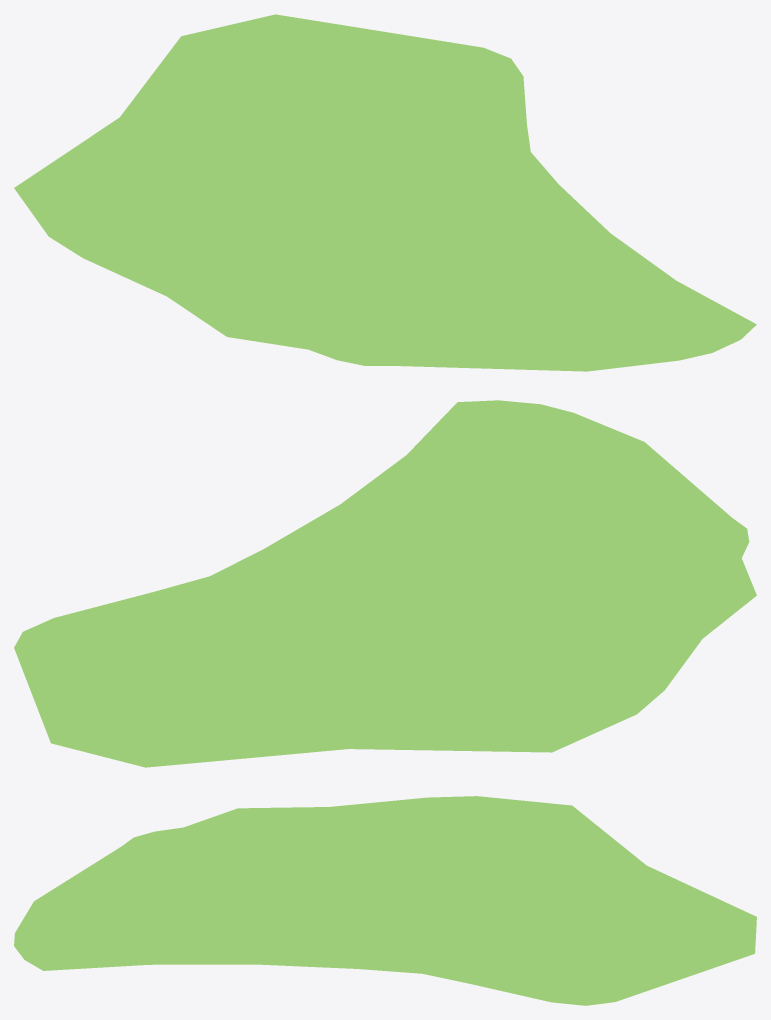
File: IslandNeutral2.001.fbx
3 renders of one model, top to bottom at view 1: azimuth 30°, elevation 25°; view 2: azimuth 150°, elevation 25°; view 3: azimuth 270°, elevation 25°, orthographic. The views are drawn at different scales.
Visible parts, largest first — view 1: IslandNeutral2.001; view 2: IslandNeutral2.001; view 3: IslandNeutral2.001.
Boxes of the visible parts, x1=… form: IslandNeutral2.001: x1=14, y1=14, x2=756, y2=371; IslandNeutral2.001: x1=14, y1=400, x2=756, y2=767; IslandNeutral2.001: x1=14, y1=796, x2=756, y2=1005.
Bounding box in the file's own units: 10.3 × 0 × 6.88.
